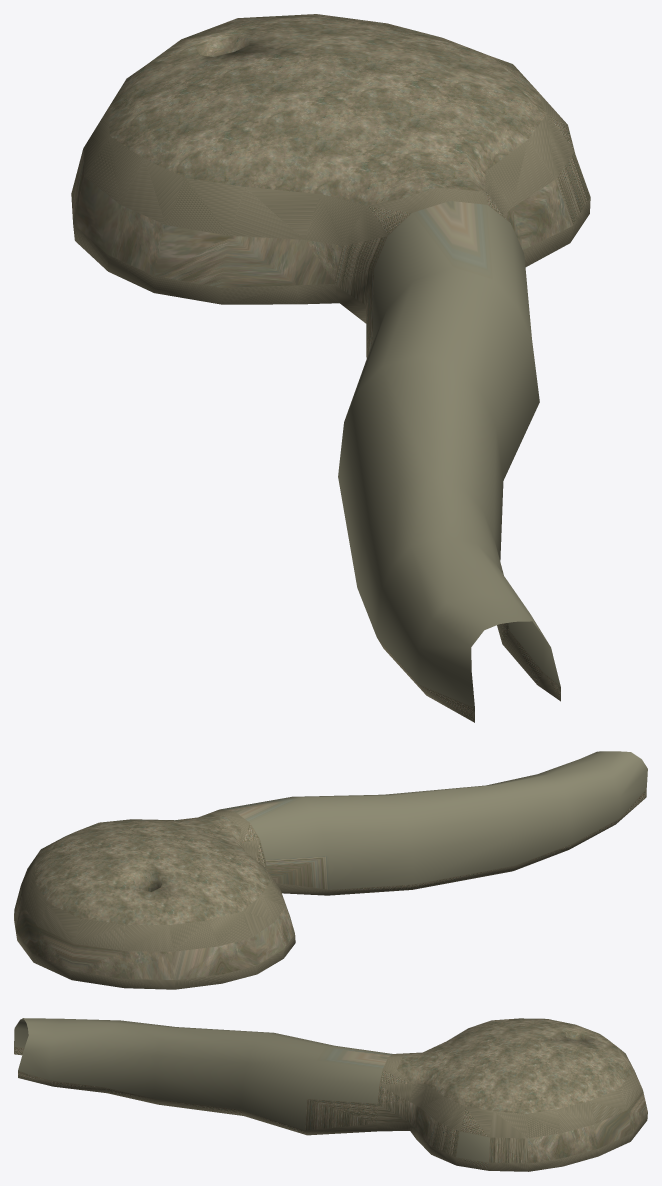
File: EKH_GROTTO_PS_GR_CAVE_TOP439.fbx
3 views of the same model, one above another, from view 1: azimuth 30°, elevation 25°; view 2: azimuth 150°, elevation 25°; view 3: azimuth 270°, elevation 25° (orthographic). The views are drawn at different scales.
Parts seen in each view (by area): view 1: EKH_GROTTO_PS_GR_CAVE_TOP439; view 2: EKH_GROTTO_PS_GR_CAVE_TOP439; view 3: EKH_GROTTO_PS_GR_CAVE_TOP439.
Boxes of the visible parts, x1,y1,x2,y2 form: EKH_GROTTO_PS_GR_CAVE_TOP439: (71, 14, 590, 722); EKH_GROTTO_PS_GR_CAVE_TOP439: (14, 751, 647, 989); EKH_GROTTO_PS_GR_CAVE_TOP439: (14, 1018, 647, 1171).
Bounding box in the file's own units: 131395 × 48625 × 245394.
Materials: 1 (1 with a texture image).
